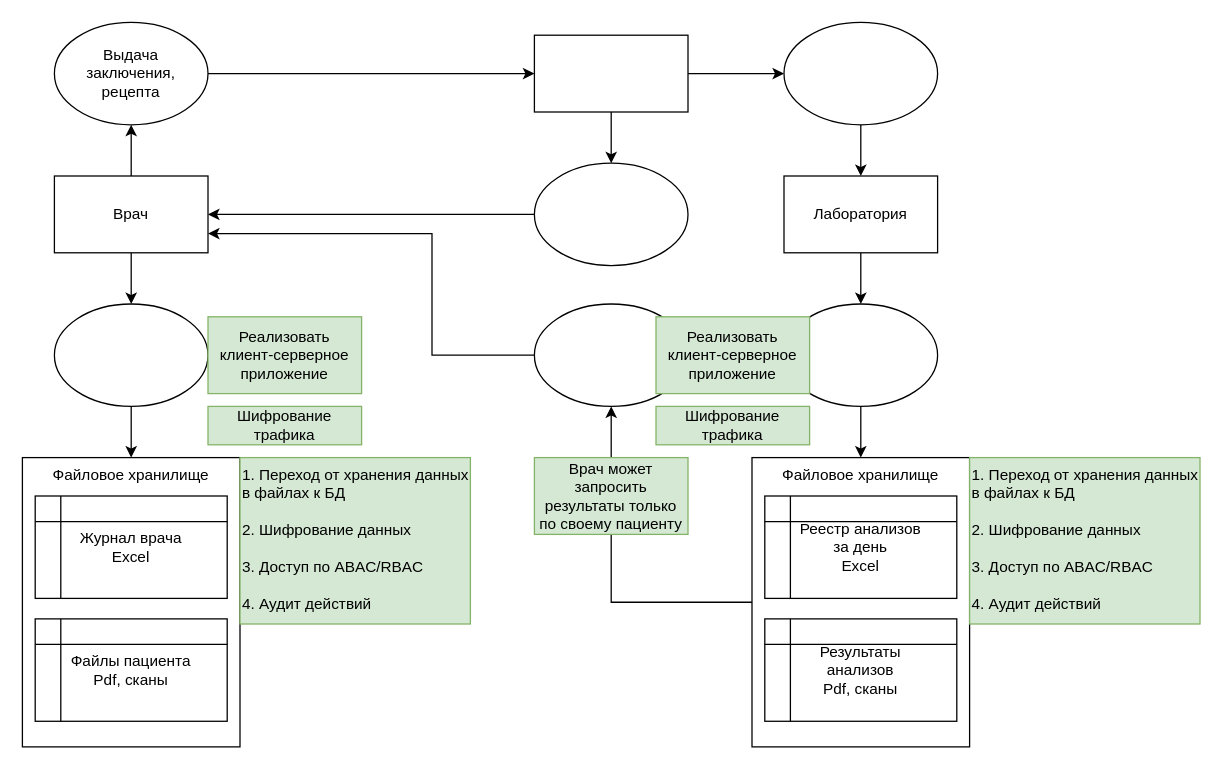
Some shapes in this 1222 by 769 pixel diagram are drawn without their labels. Here are the shapes that lost their labels. From the top down, the centre of each, then its label:
At (x=610, y=73): "Пациент".
At (x=860, y=73): "Материалы на анализы".
At (x=610, y=214): "Жалобы".
At (x=130, y=354): "Сохранение анамнеза, диагноза, назначения".
At (x=610, y=354): "Просмотр результатов анализов".
At (x=860, y=354): "Сохранение результатов анализов".
